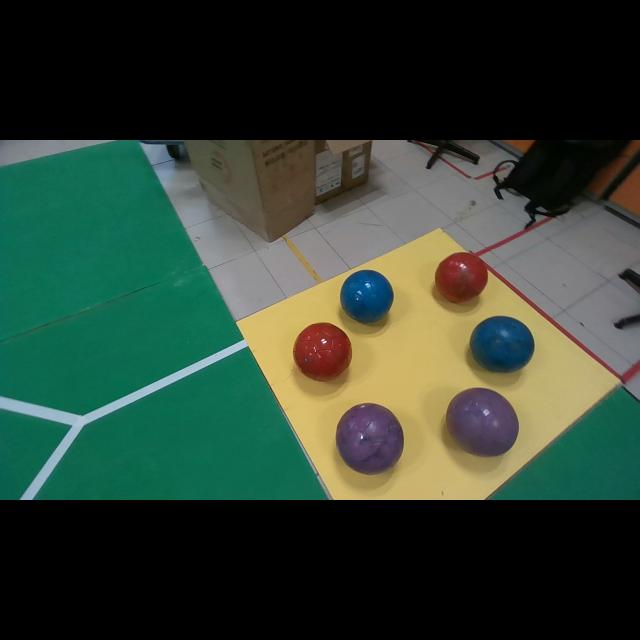B: (470, 316, 535, 372), (340, 270, 394, 322)
P: (446, 388, 519, 456), (336, 402, 404, 474)
R: (292, 324, 352, 381), (435, 252, 488, 302)
